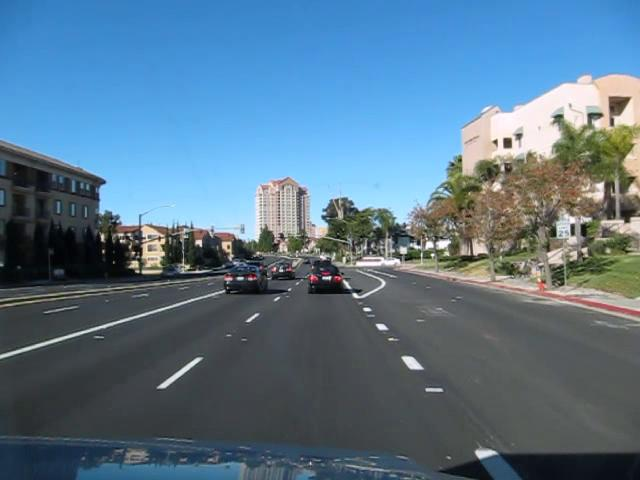speedLimit25: (555, 219, 571, 239)
